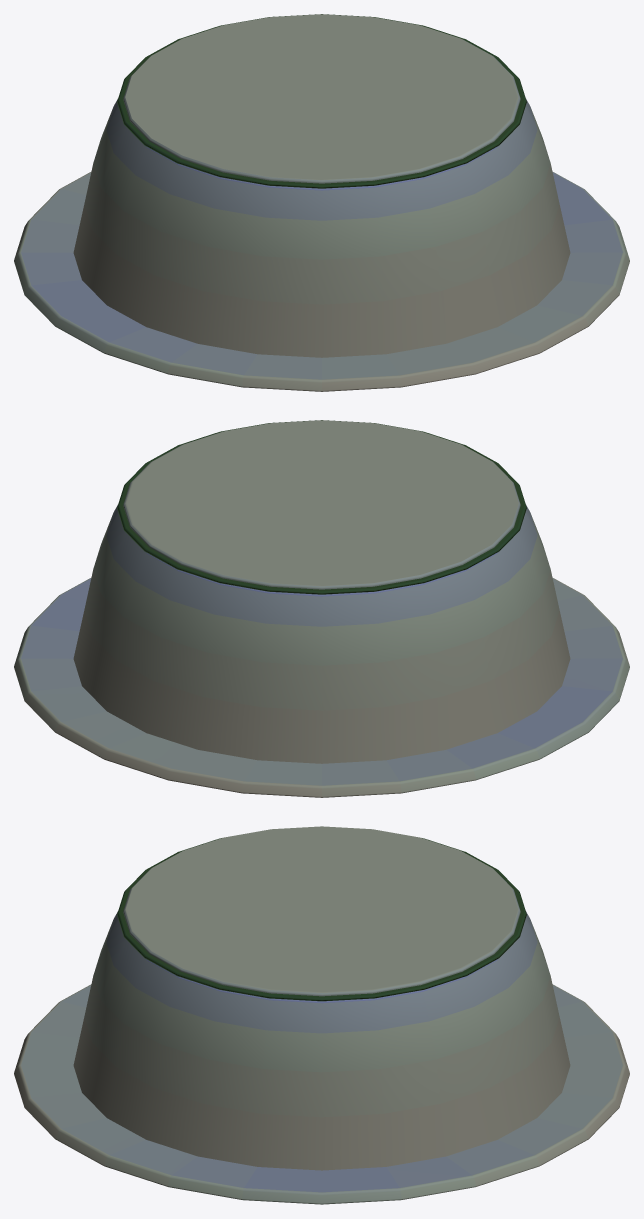
Rendered from Tile_top_M.fbx.
3 views of the same model, one above another, from view 1: azimuth 30°, elevation 25°; view 2: azimuth 150°, elevation 25°; view 3: azimuth 270°, elevation 25° (orthographic).
Parts seen in each view (by area): view 1: Tile_top_M; view 2: Tile_top_M; view 3: Tile_top_M.
Boxes of the visible parts, x1,y1,x2,y2 form: Tile_top_M: [14, 14, 629, 391]; Tile_top_M: [14, 420, 629, 797]; Tile_top_M: [14, 826, 629, 1204].
Size of the model in its own units: 130 by 40.98 by 130.
